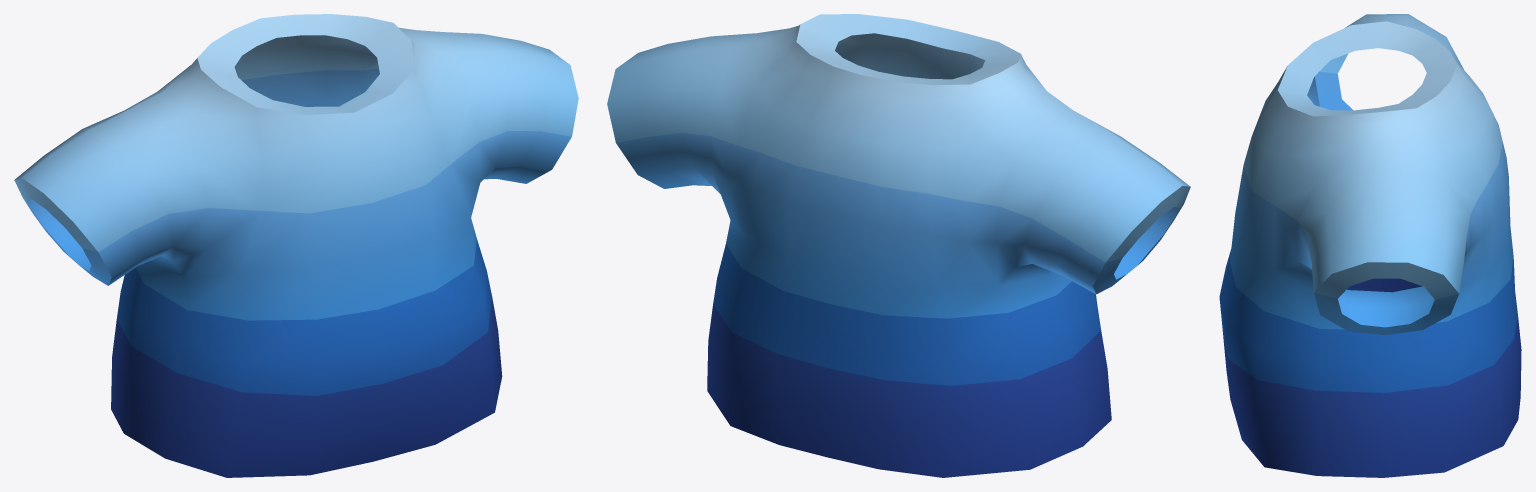
Rendered from Outwear_50.glb.
3 views of the same model, side by side, from view 1: azimuth 30°, elevation 25°; view 2: azimuth 150°, elevation 25°; view 3: azimuth 270°, elevation 25° (orthographic). The views are drawn at different scales.
Parts seen in each view (by area): view 1: Outwear_50; view 2: Outwear_50; view 3: Outwear_50.
Part boxes in pixels (x1=…): Outwear_50: x1=14, y1=14, x2=578, y2=477; Outwear_50: x1=607, y1=14, x2=1190, y2=477; Outwear_50: x1=1219, y1=14, x2=1521, y2=477.
Bounding box in the file's own units: 0.4016 × 0.2627 × 0.2076.
Materials: 1 (1 with a texture image).
